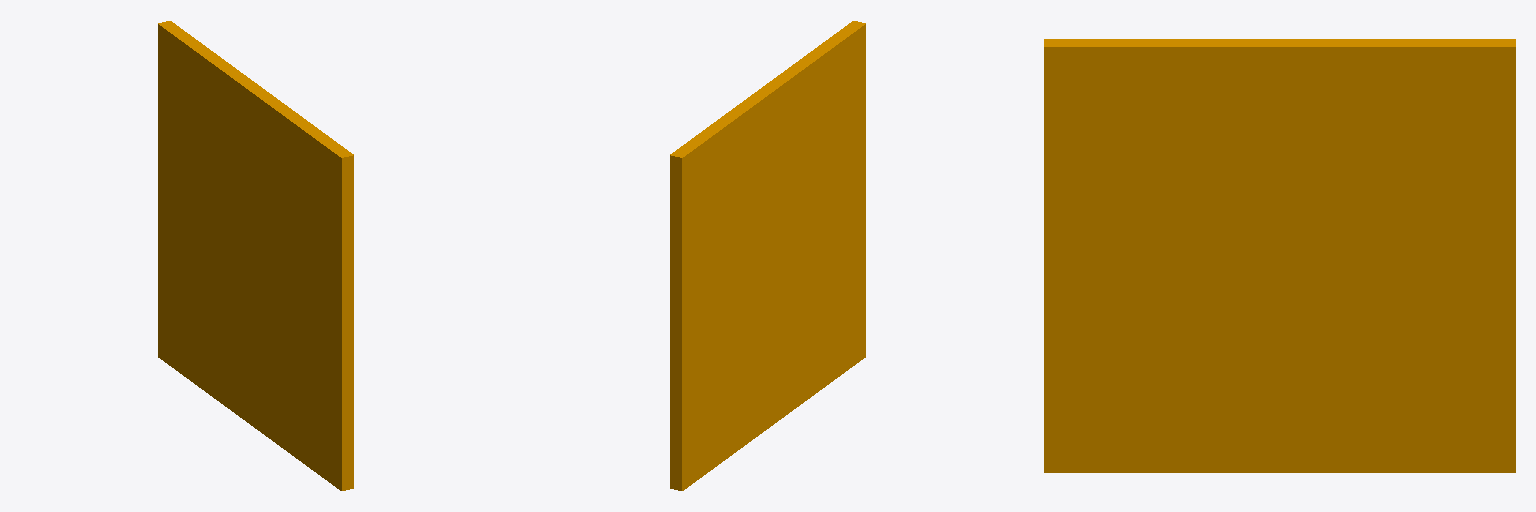
robot.urdf — front_wall:
<?xml version='1.0' encoding='UTF-8'?>
<robot name="front_wall">
  <link name="base_link">
    <inertial>
      <origin xyz="0.0 0.0 0.0" rpy="0.0 -0.0 0.0"/>
      <mass value="1.0"/>
      <inertia ixx="1.0" ixy="0.0" ixz="0.0" iyy="1.0" iyz="0.0" izz="1.0"/>
    </inertial>
    <visual name="base_link_visual">
      <geometry>
        <box size="0.2 5.0 5.0"/>
      </geometry>
      <origin xyz="0 0 0" rpy="0 0 0"/>
    </visual>
    <collision name="base_link_collision">
      <geometry>
        <box size="0.2 5.0 5.0"/>
      </geometry>
      <origin xyz="0 0 0" rpy="0 0 0"/>
    </collision>
  </link>
</robot>

--- What the picture shows (computed from the rendered views, not written in the file) ---
Views: 3 orthographic renders of the robot side by side, from view 1: azimuth 30°, elevation 25°; view 2: azimuth 150°, elevation 25°; view 3: azimuth 270°, elevation 25°.
Model front_wall with 1 links and 0 joints (none), rooted at base_link, posed all joints at 0.
Visible links, largest first — view 1: base_link; view 2: base_link; view 3: base_link.
Link boxes in pixels (bbox=[...]): base_link: bbox=[158, 21, 353, 490]; base_link: bbox=[670, 21, 865, 490]; base_link: bbox=[1044, 39, 1515, 472].
Size in the robot's own frame: 0.2 by 5 by 5 metres.
Geometry: primitives only (box / cylinder / sphere), no mesh files.